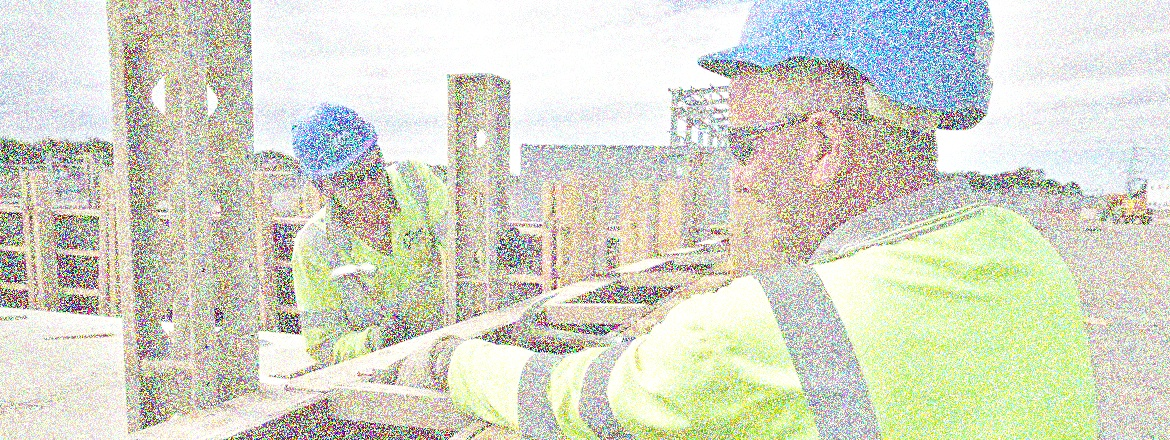helmet: (691, 0, 1005, 227), (289, 100, 388, 212)
vest: (562, 174, 1098, 440), (285, 192, 465, 372)
